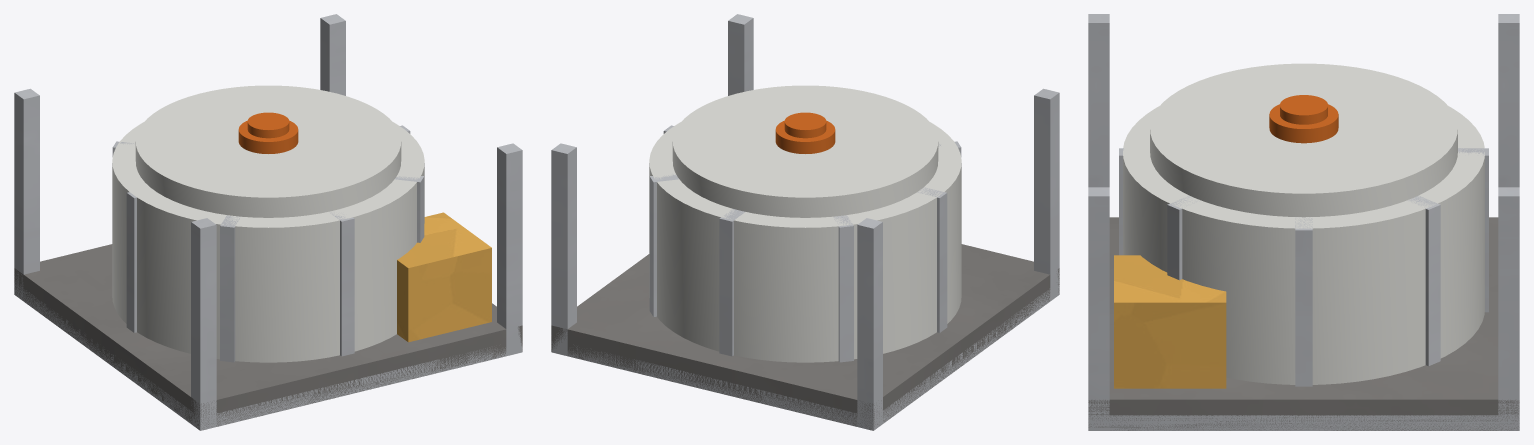
File: power14_reaction_wheel_s.glb
3 views of the same model, side by side, from view 1: azimuth 30°, elevation 25°; view 2: azimuth 150°, elevation 25°; view 3: azimuth 270°, elevation 25° (orthographic). The views are drawn at different scales.
Parts seen in each view (by area): view 1: wheel_housing, base_plate, slot_frame, electronics, housing_ribs, port_1; view 2: wheel_housing, base_plate, slot_frame, housing_ribs, port_1; view 3: wheel_housing, slot_frame, base_plate, electronics, housing_ribs, port_1.
Part boxes in pixels (x1,y1,x2,y2): wheel_housing: (112,85,424,362); base_plate: (14,244,522,429); slot_frame: (14,14,522,430); electronics: (397,212,491,342); housing_ribs: (112,125,424,362); port_1: (238,112,298,153); wheel_housing: (649,85,961,362); base_plate: (551,244,1059,430); slot_frame: (551,14,1059,430); housing_ribs: (649,125,961,362); port_1: (775,112,835,153); wheel_housing: (1123,63,1484,384); slot_frame: (1088,14,1519,430); base_plate: (1088,217,1519,430); electronics: (1114,255,1226,388); housing_ribs: (1119,148,1488,386); port_1: (1269,95,1338,143).
Size of the model in its own units: 0.5 by 0.3 by 0.5.
5 materials, 3 textured.
